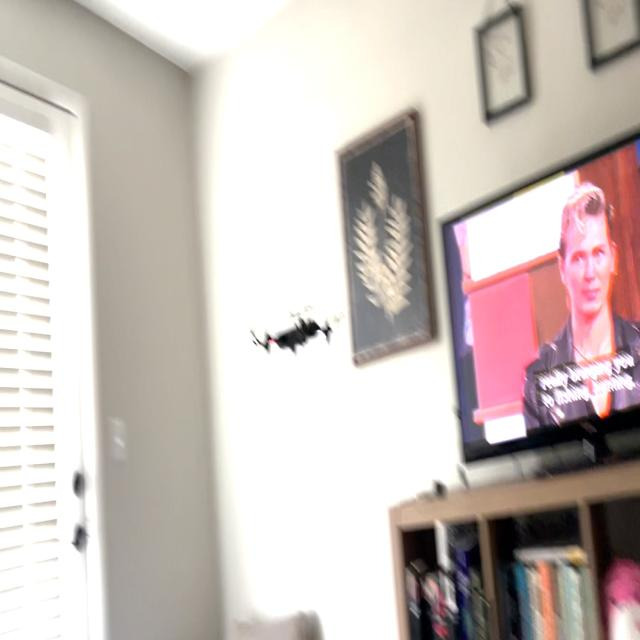drone: (242, 288, 352, 374)
